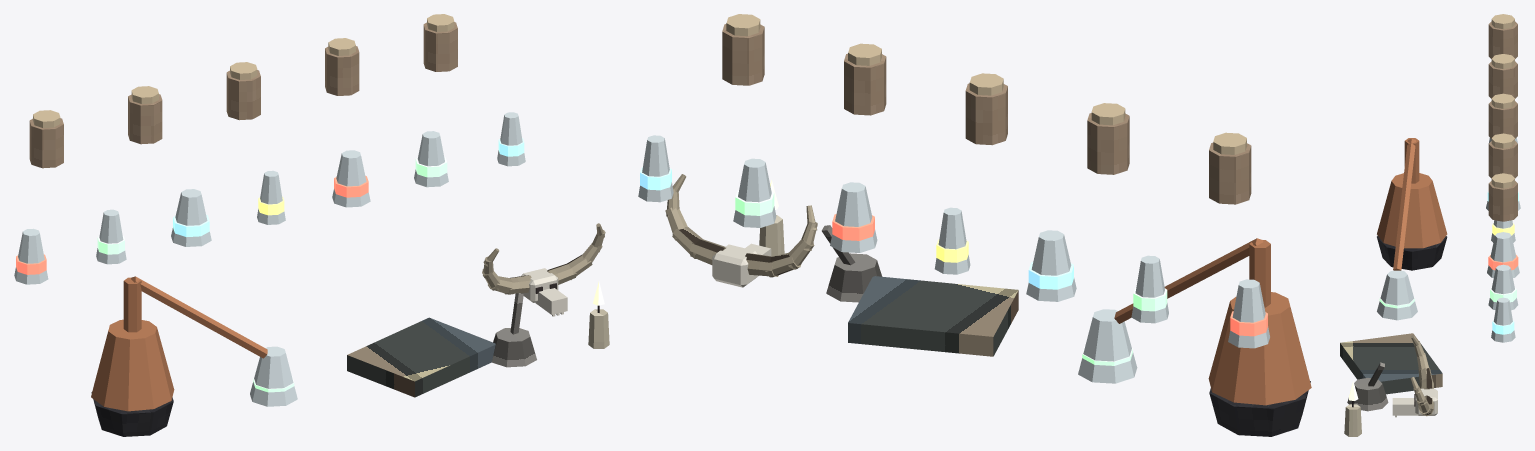
File: alchemy_set.glb
3 renders of one model, left to right at view 1: azimuth 30°, elevation 25°; view 2: azimuth 150°, elevation 25°; view 3: azimuth 270°, elevation 25°, orthographic. The views are drawn at different scales.
Visible parts, largest first — view 1: body; view 2: body; view 3: body.
Boxes of the visible parts, x1=… form: body: x1=14, y1=14, x2=609, y2=436; body: x1=638, y1=14, x2=1311, y2=436; body: x1=1340, y1=14, x2=1520, y2=436.
Size of the model in its own units: 1.75 by 0.855 by 0.614.
Materials: 17 (7 with a texture image).
